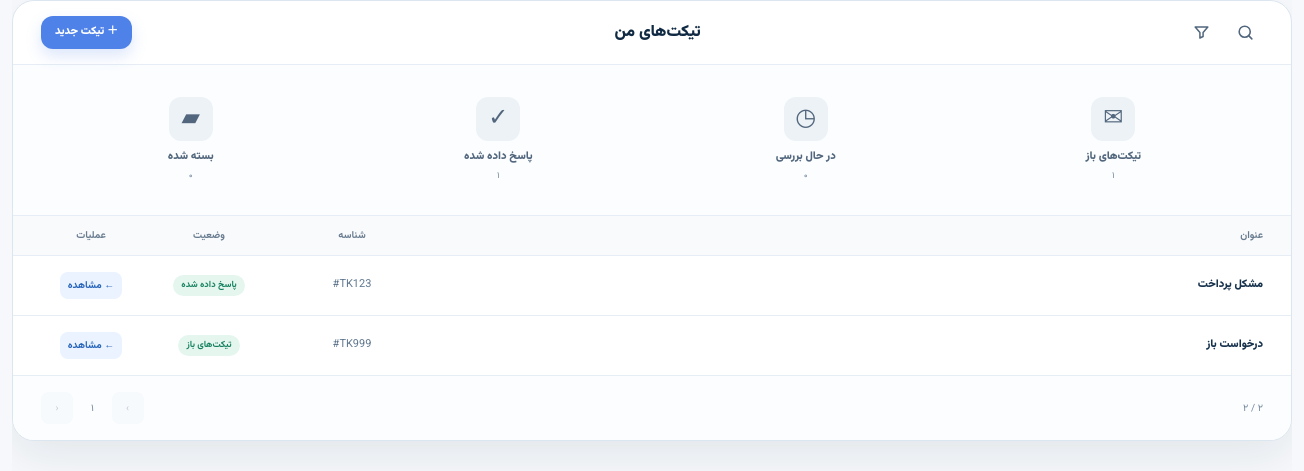
it: SupportConversationCenter › filters tickets when a status card is selected and toggles back to all
Click the button with test id "support-status-OPEN" at {"x": 1113, "y": 140}, box [968,85,1259,195]
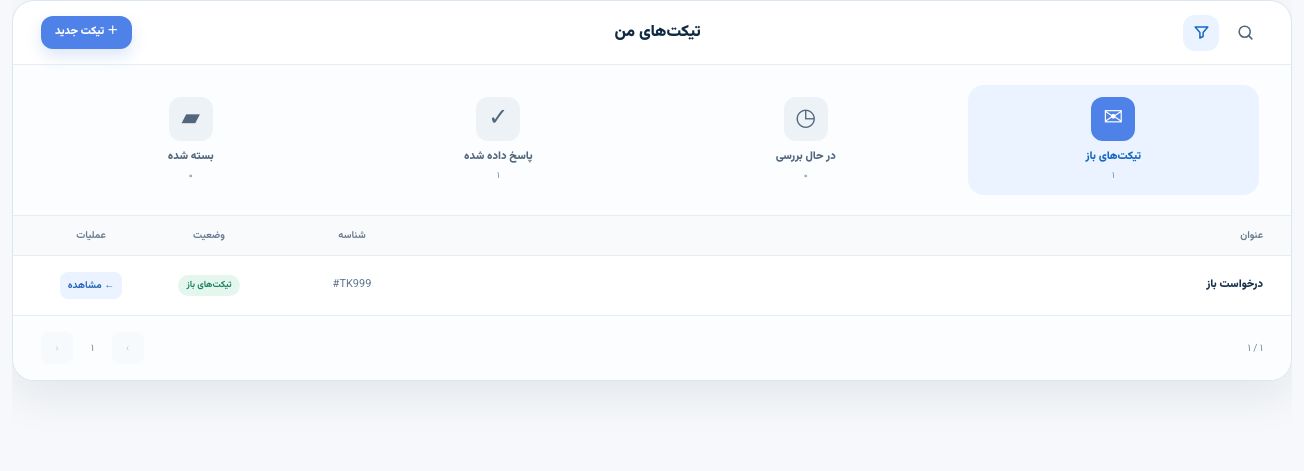
Expected: the text "درخواست باز" is shown, [1206,276,1263,293]
Result: the button "مشکل پرداخت" is gone
Click the button with test id "support-status-OPEN" at {"x": 1113, "y": 140}, box [968,85,1259,195]
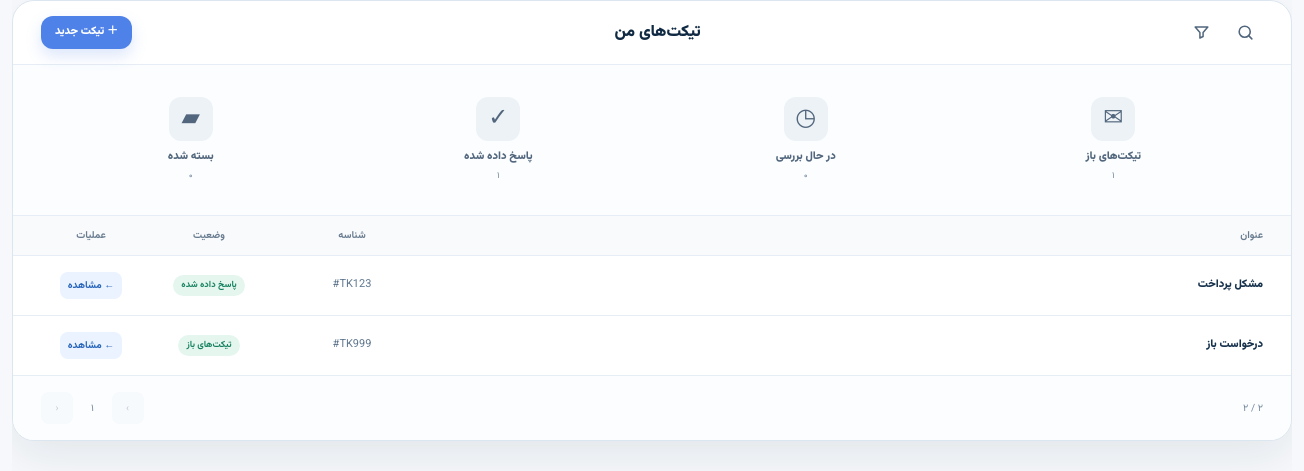
Result: the text "مشکل پرداخت" is shown at [1198,276,1263,293]
